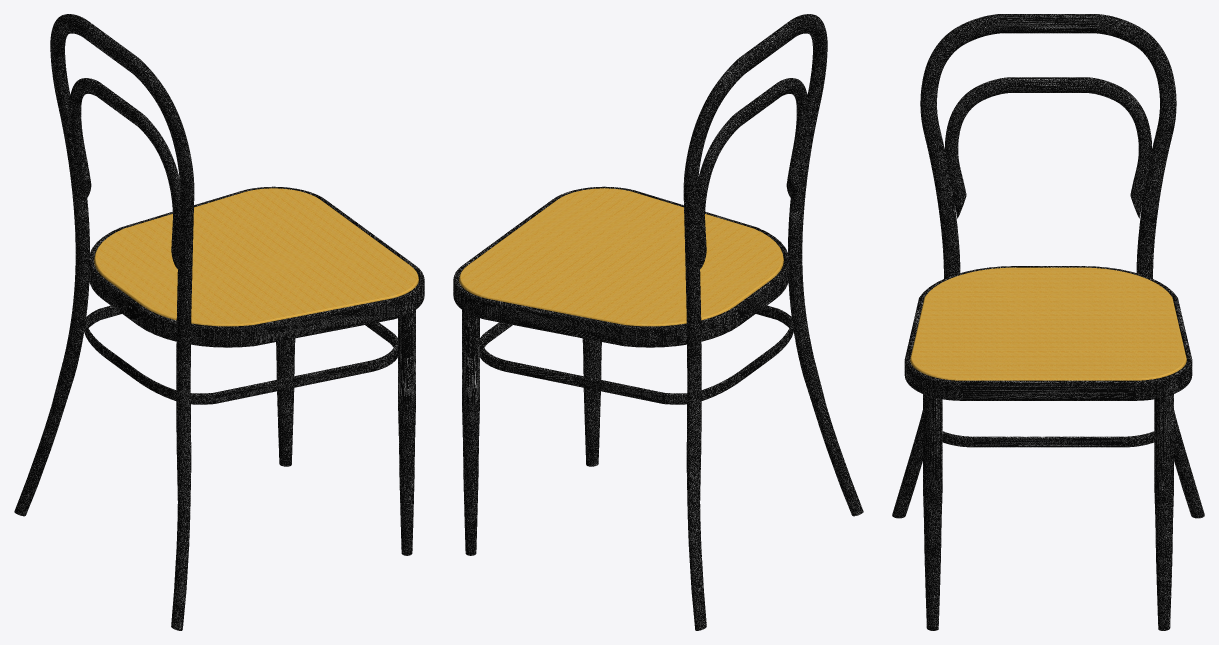
The picture shows the model from 3 angles, left to right: view 1: azimuth 30°, elevation 25°; view 2: azimuth 150°, elevation 25°; view 3: azimuth 270°, elevation 25°; orthographic projection. The views are drawn at different scales.
Parts seen in each view (by area): view 1: mesh3_mesh3-geometry, mesh7_mesh7-geometry, mesh5_mesh5-geometry, mesh1_mesh1-geometry, mesh10_mesh10-geometry, mesh2_mesh2-geometry, mesh6_mesh6-geometry; view 2: mesh3_mesh3-geometry, mesh7_mesh7-geometry, mesh5_mesh5-geometry, mesh1_mesh1-geometry, mesh10_mesh10-geometry, mesh6_mesh6-geometry, mesh2_mesh2-geometry; view 3: mesh3_mesh3-geometry, mesh7_mesh7-geometry, mesh5_mesh5-geometry, mesh10_mesh10-geometry, mesh6_mesh6-geometry, mesh2_mesh2-geometry, mesh1_mesh1-geometry.
Part boxes in pixels (<box>): mesh3_mesh3-geometry: <box>94,188,418,326</box>; mesh7_mesh7-geometry: <box>14,14,194,630</box>; mesh5_mesh5-geometry: <box>88,186,424,347</box>; mesh1_mesh1-geometry: <box>84,305,397,404</box>; mesh10_mesh10-geometry: <box>69,78,179,268</box>; mesh2_mesh2-geometry: <box>398,310,415,555</box>; mesh6_mesh6-geometry: <box>276,338,295,466</box>; mesh3_mesh3-geometry: <box>459,188,783,326</box>; mesh7_mesh7-geometry: <box>683,14,863,630</box>; mesh5_mesh5-geometry: <box>453,186,789,347</box>; mesh1_mesh1-geometry: <box>480,305,793,404</box>; mesh10_mesh10-geometry: <box>698,78,808,268</box>; mesh6_mesh6-geometry: <box>462,310,479,555</box>; mesh2_mesh2-geometry: <box>582,338,601,466</box>; mesh3_mesh3-geometry: <box>910,267,1186,380</box>; mesh7_mesh7-geometry: <box>892,14,1204,518</box>; mesh5_mesh5-geometry: <box>904,266,1192,400</box>; mesh10_mesh10-geometry: <box>945,77,1151,218</box>; mesh6_mesh6-geometry: <box>1154,394,1173,630</box>; mesh2_mesh2-geometry: <box>923,394,942,630</box>; mesh1_mesh1-geometry: <box>942,431,1154,447</box>.
Bounding box in the file's own units: 0.4302 × 0.7879 × 0.4406.
